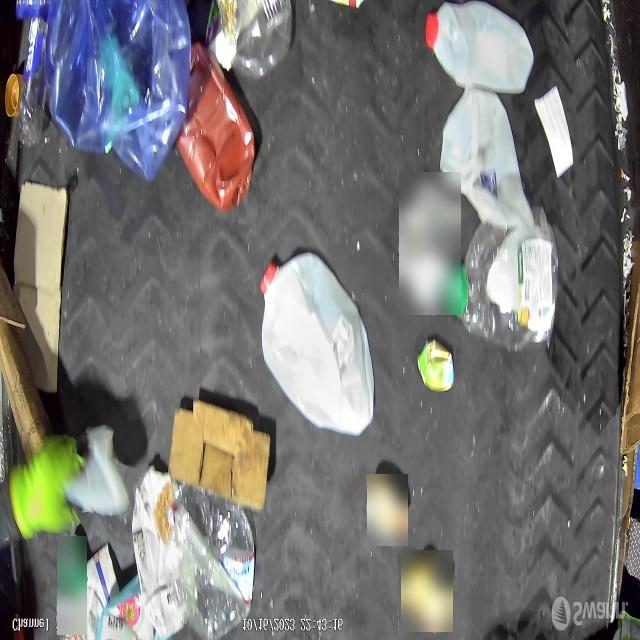milk_jug: (260, 252, 373, 438), (440, 90, 532, 228), (426, 0, 536, 94)
non_white_jug: (175, 42, 256, 214), (132, 466, 184, 638)
plastic_bottle: (447, 214, 559, 348)
